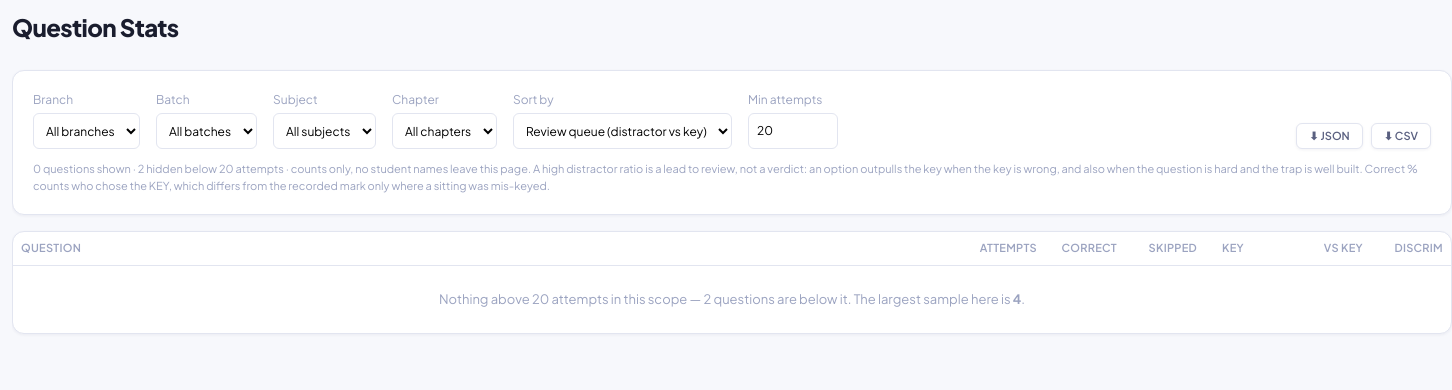
Test: ItemStatsPage — filters › filters by subject
Replace the text in the number field labelled "Min attempts" with "1" at [793, 131], box [748,113,838,149]
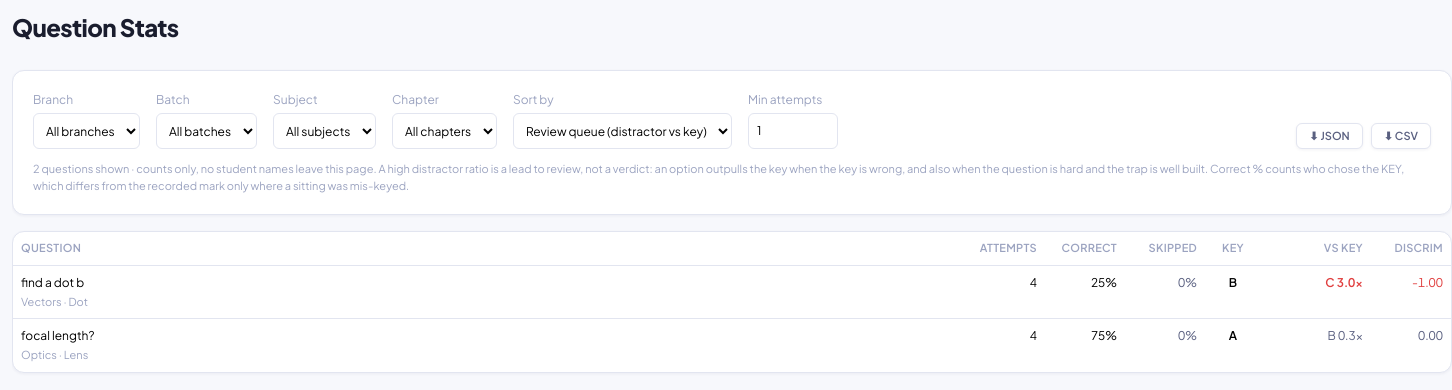
Select "GAT" in the dropdown labelled "Subject" at [324, 131], box [273,113,376,149]
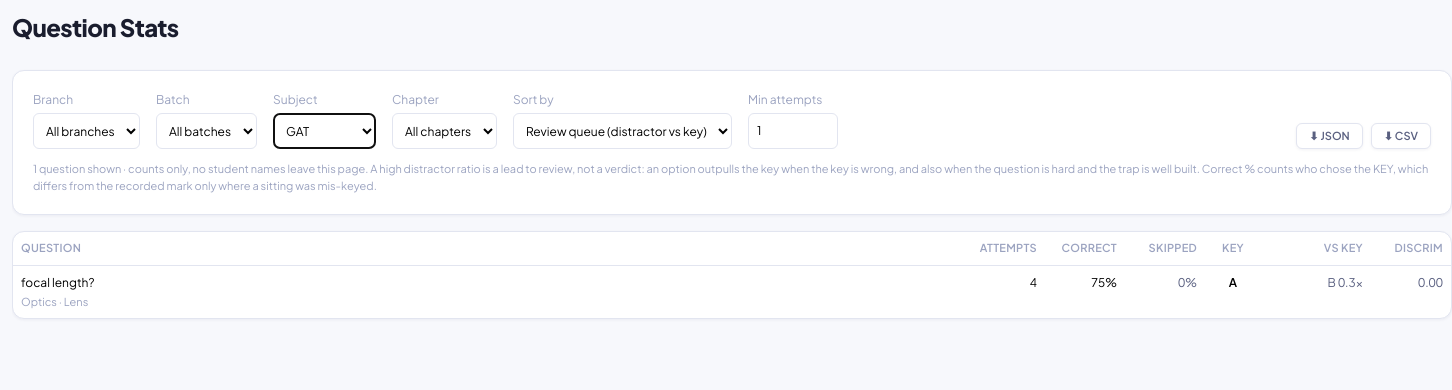
Now the text "focal length?" is shown, box [21,274,94,290]
Now the number of rows with test id "item-row" is 1, box [13,265,1451,318]
